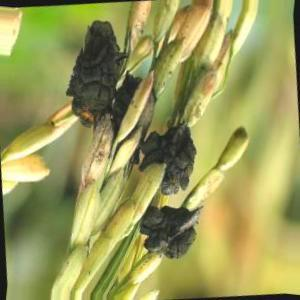Leaf_Scald: (86, 17, 125, 113), (144, 129, 199, 196), (146, 205, 194, 256), (70, 68, 90, 120)
